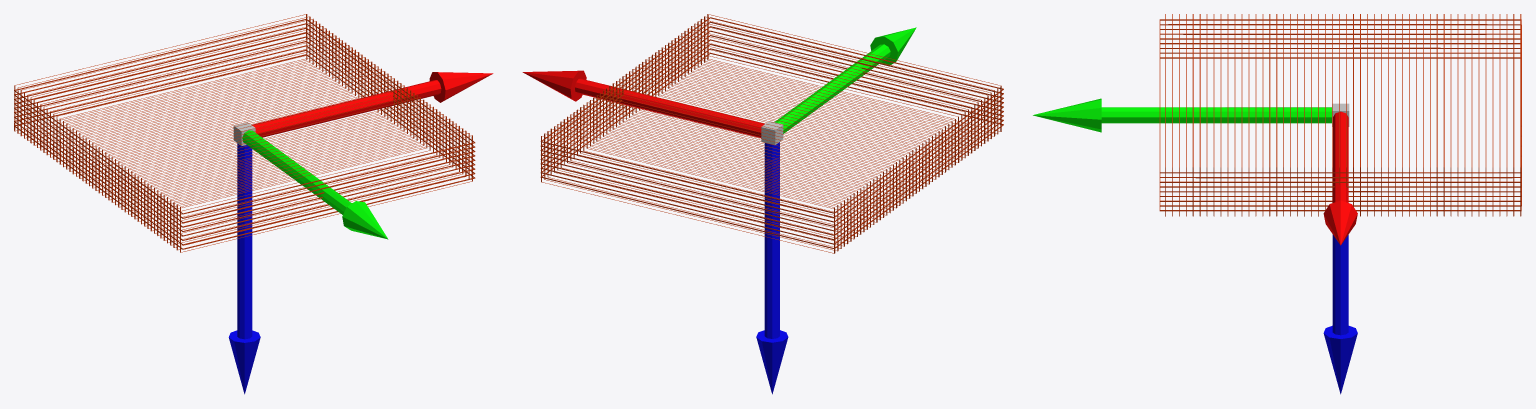
3 renders of one model, left to right at view 1: azimuth 30°, elevation 25°; view 2: azimuth 150°, elevation 25°; view 3: azimuth 270°, elevation 25°, orthographic. The views are drawn at different scales.
Visible parts, largest first — view 1: VCube, HCube, ArrowZ_Cylinder.003, ArrowY_Cylinder.002, ArrowX_Cylinder; view 2: VCube, HCube, ArrowZ_Cylinder.003, ArrowY_Cylinder.002, ArrowX_Cylinder, Cube.001_Cube; view 3: VCube, HCube, ArrowX_Cylinder, ArrowZ_Cylinder.003, ArrowY_Cylinder.002.
Part boxes in pixels (x1,y1,x2,y2): VCube: (14, 14, 472, 252); HCube: (14, 19, 475, 249); ArrowZ_Cylinder.003: (228, 143, 260, 394); ArrowY_Cylinder.002: (252, 72, 493, 137); ArrowX_Cylinder: (242, 130, 388, 239); VCube: (541, 14, 1001, 253); HCube: (540, 17, 1003, 249); ArrowZ_Cylinder.003: (756, 142, 788, 394); ArrowY_Cylinder.002: (522, 70, 764, 137); ArrowX_Cylinder: (774, 27, 916, 133); Cube.001_Cube: (761, 121, 783, 144); VCube: (1165, 14, 1521, 216); HCube: (1159, 19, 1521, 211); ArrowX_Cylinder: (1033, 98, 1331, 132); ArrowZ_Cylinder.003: (1323, 234, 1357, 394); ArrowY_Cylinder.002: (1323, 111, 1357, 245).
Size of the model in its own units: 14.06 by 9.63 by 14.05.
